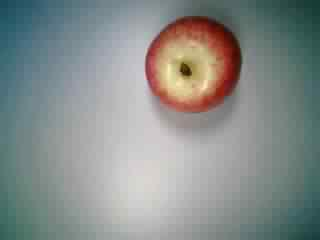apple: (140, 15, 246, 114)
